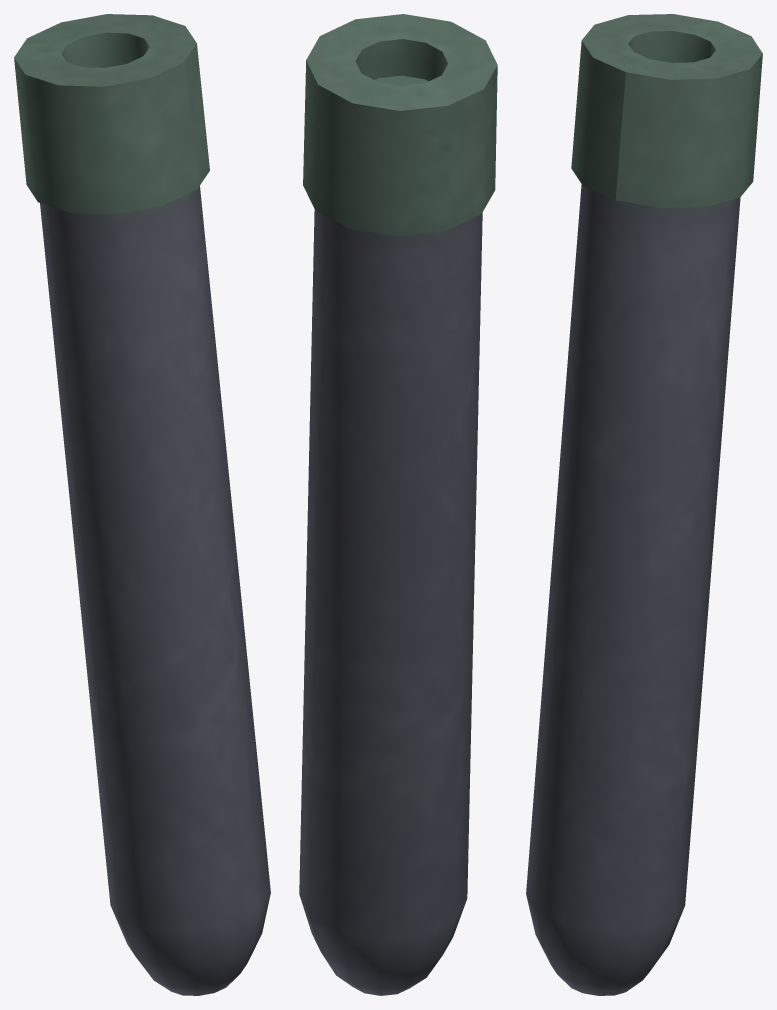
Rendered from EmptyVial.fbx.
The picture shows the model from 3 angles, left to right: view 1: azimuth 30°, elevation 25°; view 2: azimuth 150°, elevation 25°; view 3: azimuth 270°, elevation 25°; orthographic projection. The views are drawn at different scales.
Parts seen in each view (by area): view 1: Object_48.001; view 2: Object_48.001; view 3: Object_48.001.
Part boxes in pixels (<box>): Object_48.001: <box>14,14,270,995</box>; Object_48.001: <box>299,14,497,995</box>; Object_48.001: <box>526,14,762,995</box>.
Size of the model in its own units: 2.16 by 9.64 by 2.23.
